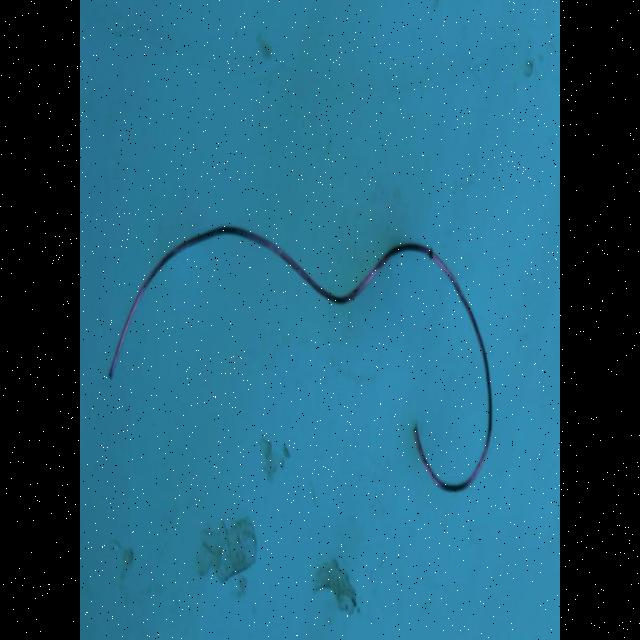Fibre: (109, 226, 494, 496)
